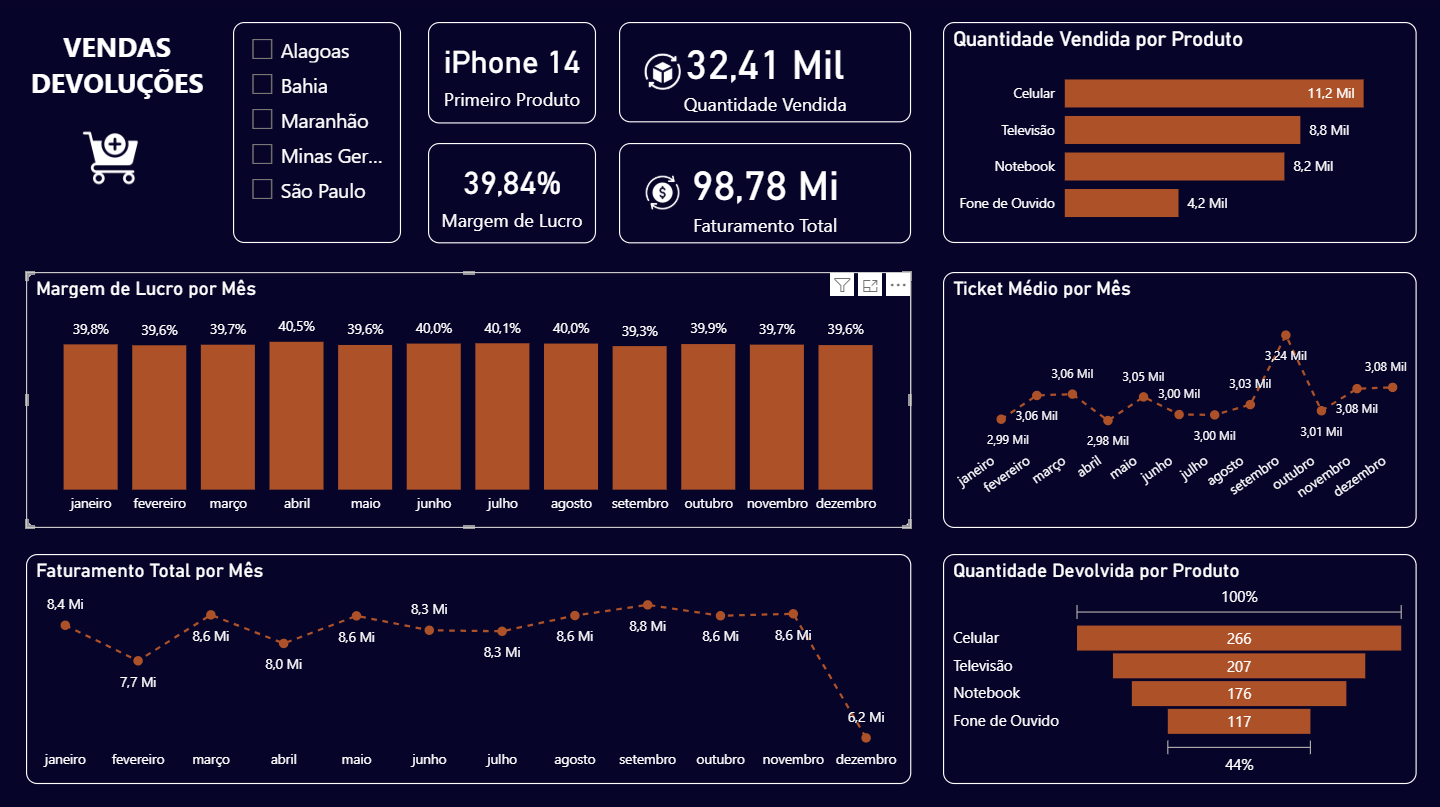

The dashboard page shown, as its layout file describes it:
{"tool":"powerbi","page":{"name":"Página 1","canvas":[1280,720],"ordinal":0},"visuals":[{"type":"card","fields":{"Values":["Min(Base Vendas.Produto)"]},"box":[380.4,21.3,149,89.6],"z":0},{"type":"clusteredBarChart","title":"Quantidade Vendida por Produto","fields":{"Category":["Base Vendas.Categoria","Base Vendas.Marca","Base Vendas.Produto"],"Y":["Medidas.Quantidade Vendida"]},"box":[837,21.3,420.3,196],"z":1000},{"type":"clusteredColumnChart","fields":{"Category":["Base Vendas.Data da Venda.Variation.Hierarquia de datas.Mês"],"Y":["Medidas.Margem de Lucro"]},"box":[23.9,243,784.7,227],"z":2000},{"type":"lineChart","fields":{"Category":["Base Vendas.Data da Venda.Variation.Hierarquia de datas.Mês"],"Y":["Medidas.Faturamento Total"]},"box":[23.9,493,784.7,203.9],"z":3000},{"type":"funnel","title":"Quantidade Devolvida por Produto","fields":{"Category":["Base Vendas.Categoria","Base Vendas.Marca","Base Vendas.Produto"],"Y":["Medidas.Quantidade Devolvida"]},"box":[837,493,420.3,203.9],"z":4000},{"type":"card","fields":{"Values":["Medidas.Quantidade Vendida"]},"box":[550.1,21.6,259.2,89.3],"z":5000},{"type":"card","fields":{"Values":["Medidas.Faturamento Total"]},"box":[550.1,128.2,259.2,89.3],"z":6000},{"type":"slicer","fields":{"Values":["Base Vendas.Loja"]},"box":[207.4,21.6,149,195.8],"z":7000},{"type":"textbox","box":[13,21.6,182.9,89.3],"z":8000},{"type":"image","box":[64.7,110.8,68.3,62.1],"z":9000},{"type":"image","box":[567.4,44.6,41.8,41.8],"z":10000},{"type":"image","box":[568.8,152.6,40.3,40.3],"z":11000},{"type":"lineChart","title":"Ticket Médio por Mês","fields":{"Category":["Base Vendas.Data da Venda.Variation.Hierarquia de datas.Mês"],"Y":["Medidas.Ticket Médio por Mês"]},"box":[837,243,420.3,227],"z":11001},{"type":"card","fields":{"Values":["Medidas.Margem de Lucro"]},"box":[380.4,128.6,149,88.7],"z":11002}]}

Visuals, with their boxes in screenshot pixels (x1, y1, x2, y2), scaled from the page's 1280x720 canvas onto the 1440x807 screenshot:
card - Min(Base Vendas.Produto): BBox(428, 24, 596, 124)
"Quantidade Vendida por Produto" clusteredBarChart: BBox(942, 24, 1414, 244)
clusteredColumnChart - Base Vendas.Data da Venda.Variation.Hierarquia de datas.Mês x Medidas.Margem de Lucro: BBox(27, 272, 910, 527)
lineChart - Base Vendas.Data da Venda.Variation.Hierarquia de datas.Mês x Medidas.Faturamento Total: BBox(27, 553, 910, 781)
"Quantidade Devolvida por Produto" funnel: BBox(942, 553, 1414, 781)
card - Medidas.Quantidade Vendida: BBox(619, 24, 910, 124)
card - Medidas.Faturamento Total: BBox(619, 144, 910, 244)
slicer - Base Vendas.Loja: BBox(233, 24, 401, 244)
textbox: BBox(15, 24, 220, 124)
image: BBox(73, 124, 150, 194)
image: BBox(638, 50, 685, 97)
image: BBox(640, 171, 685, 216)
"Ticket Médio por Mês" lineChart: BBox(942, 272, 1414, 527)
card - Medidas.Margem de Lucro: BBox(428, 144, 596, 244)
